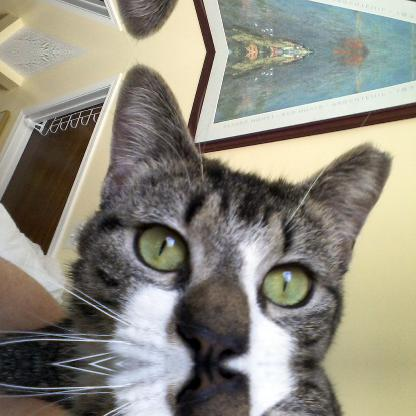Cat: (1, 59, 392, 363)
